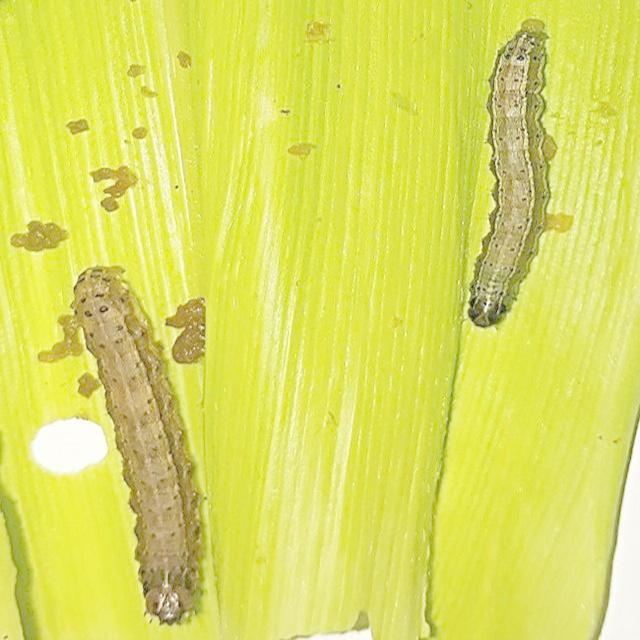Plaga: (76, 271, 201, 626), (468, 26, 551, 328)
